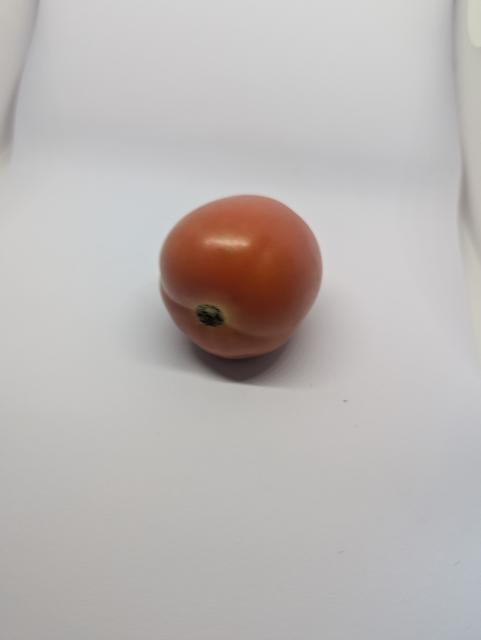red: (152, 186, 323, 381)
